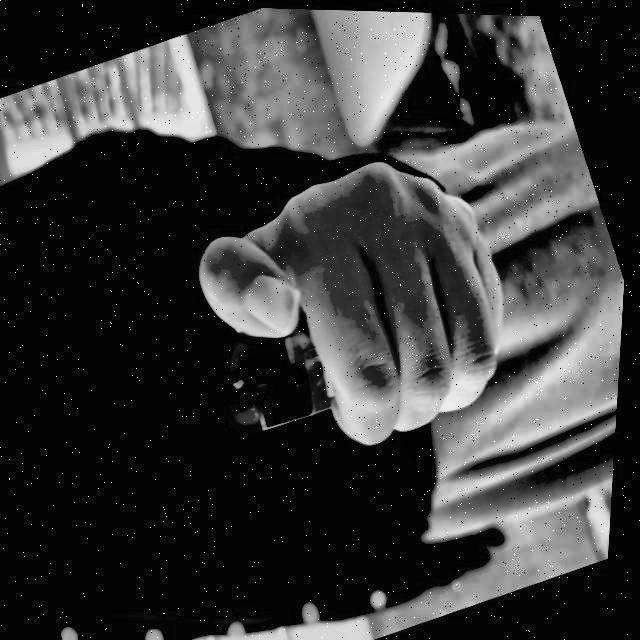Fire: (218, 395, 272, 442)
